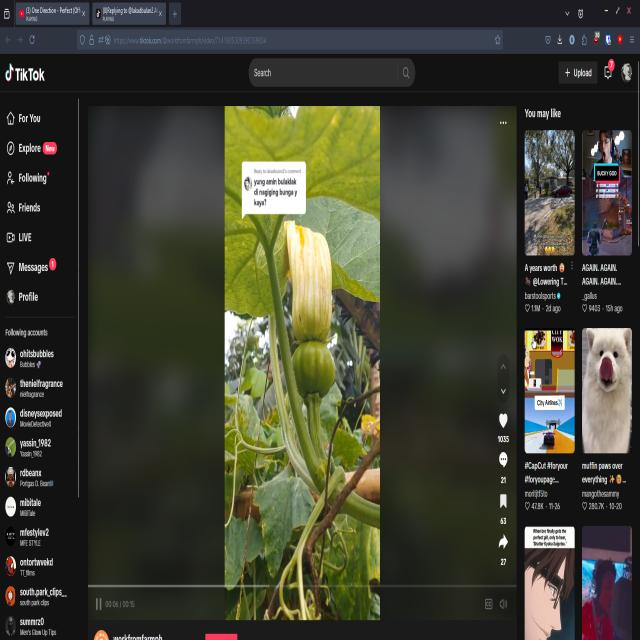flower: (283, 216, 336, 343)
squash: (292, 341, 336, 401)
